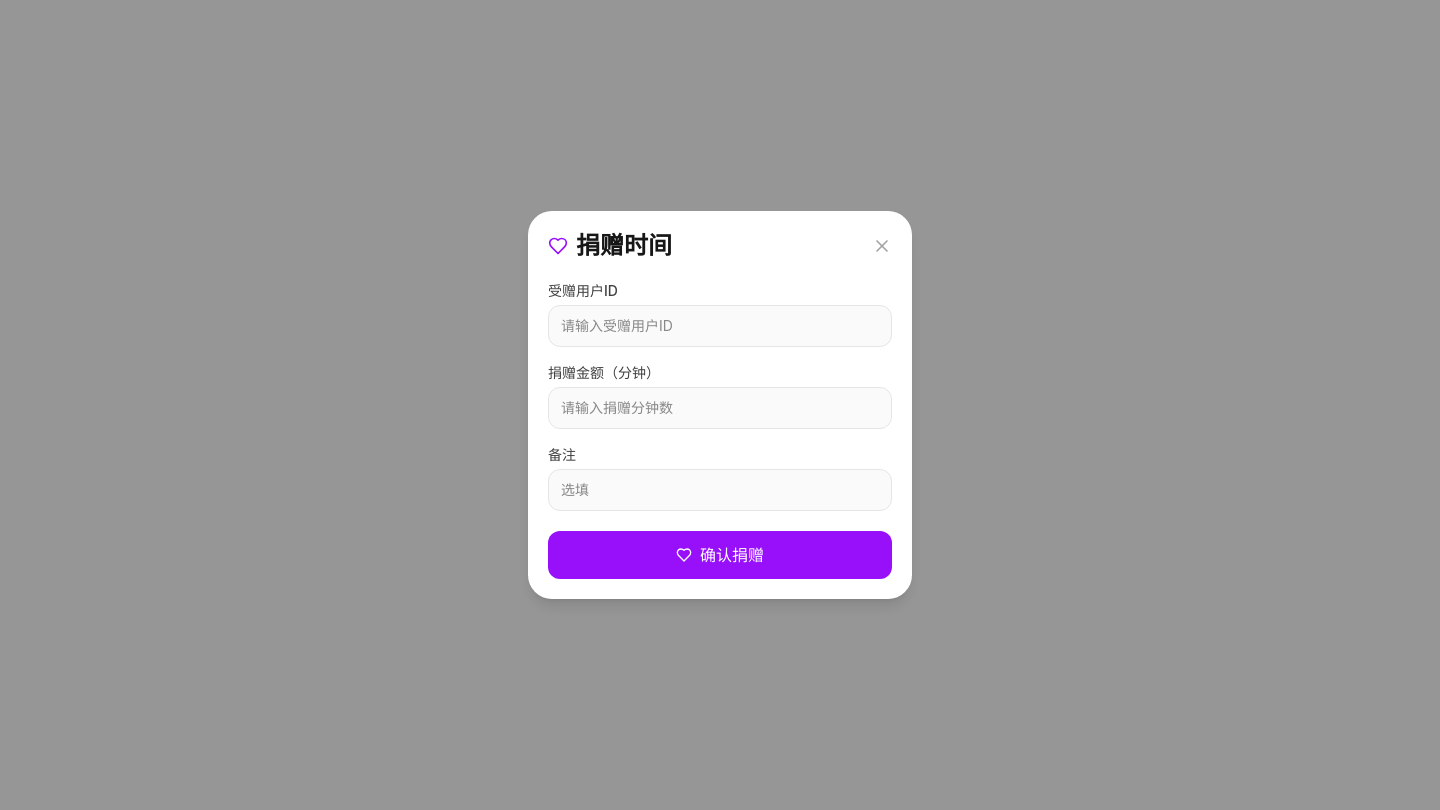
Test case: DonateModal 捐赠时间币弹窗 › 提交流程 › 提交失败为 ApiError 时显示 ApiError.message
Type "user-88" into the field with placeholder "请输入受赠用户ID" at coordinates (720, 326), box [548,305,892,347]
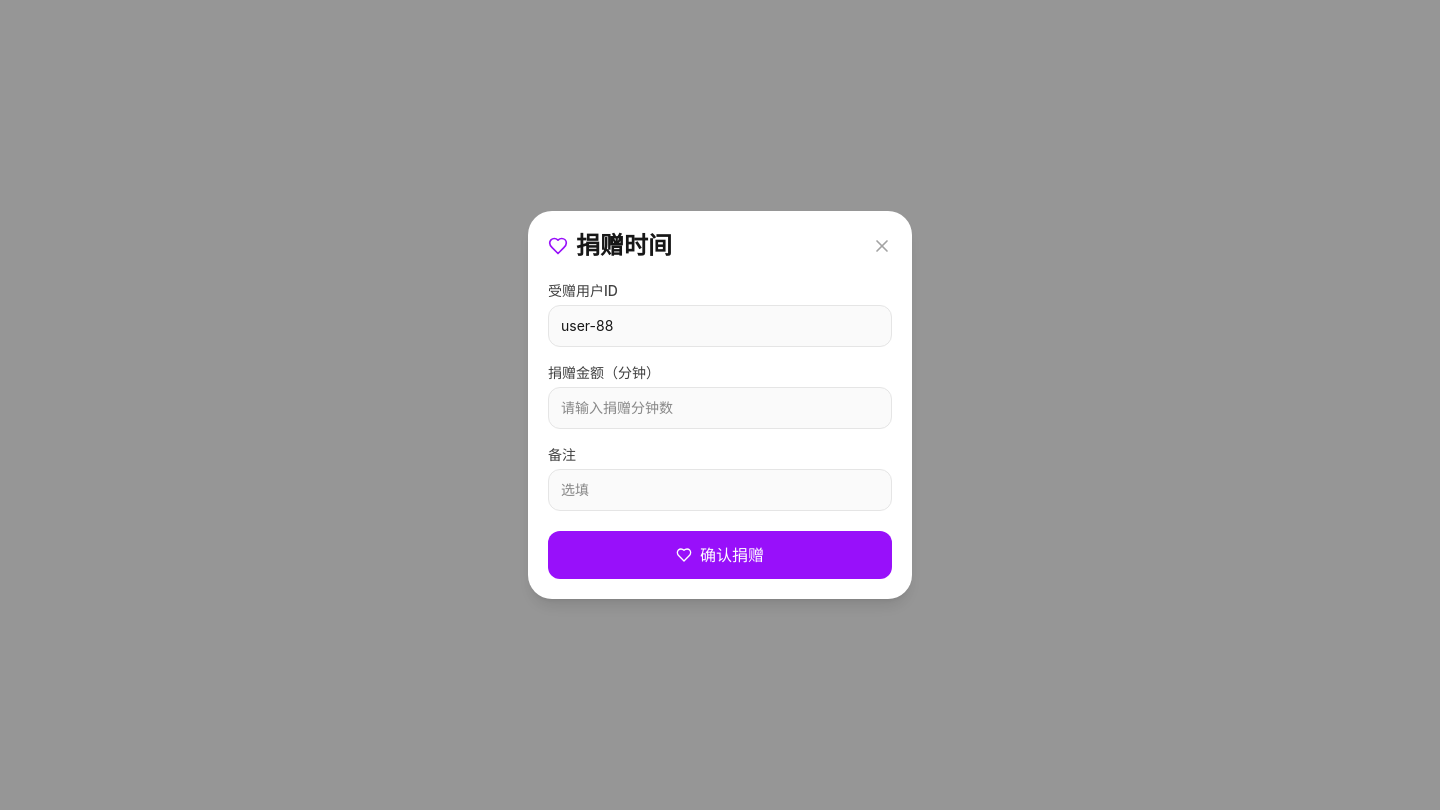
Type "20" into the number field with placeholder "请输入捐赠分钟数" at coordinates (720, 408), box [548,387,892,429]
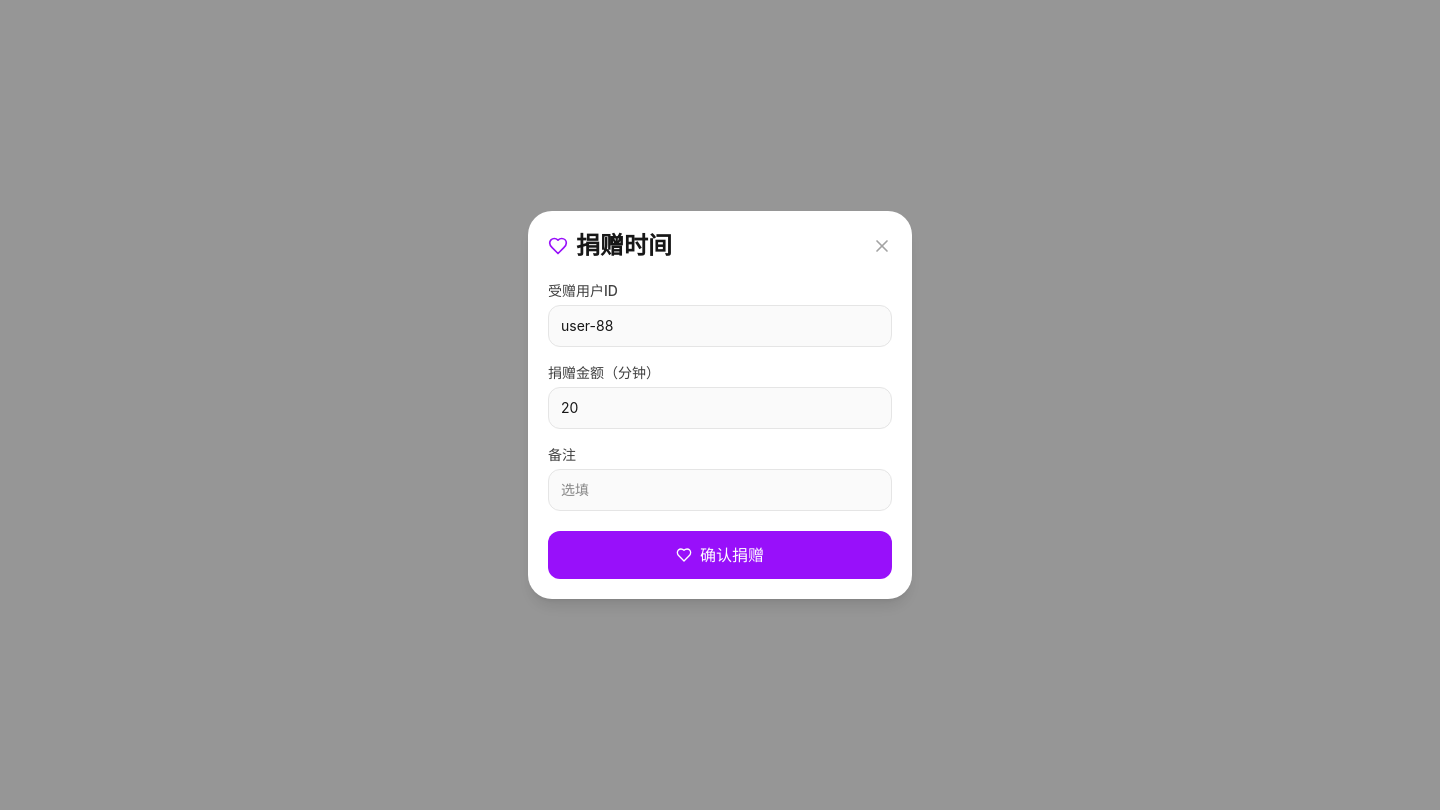
Type "公益捐赠" into the field with placeholder "选填" at coordinates (720, 490), box [548,469,892,511]
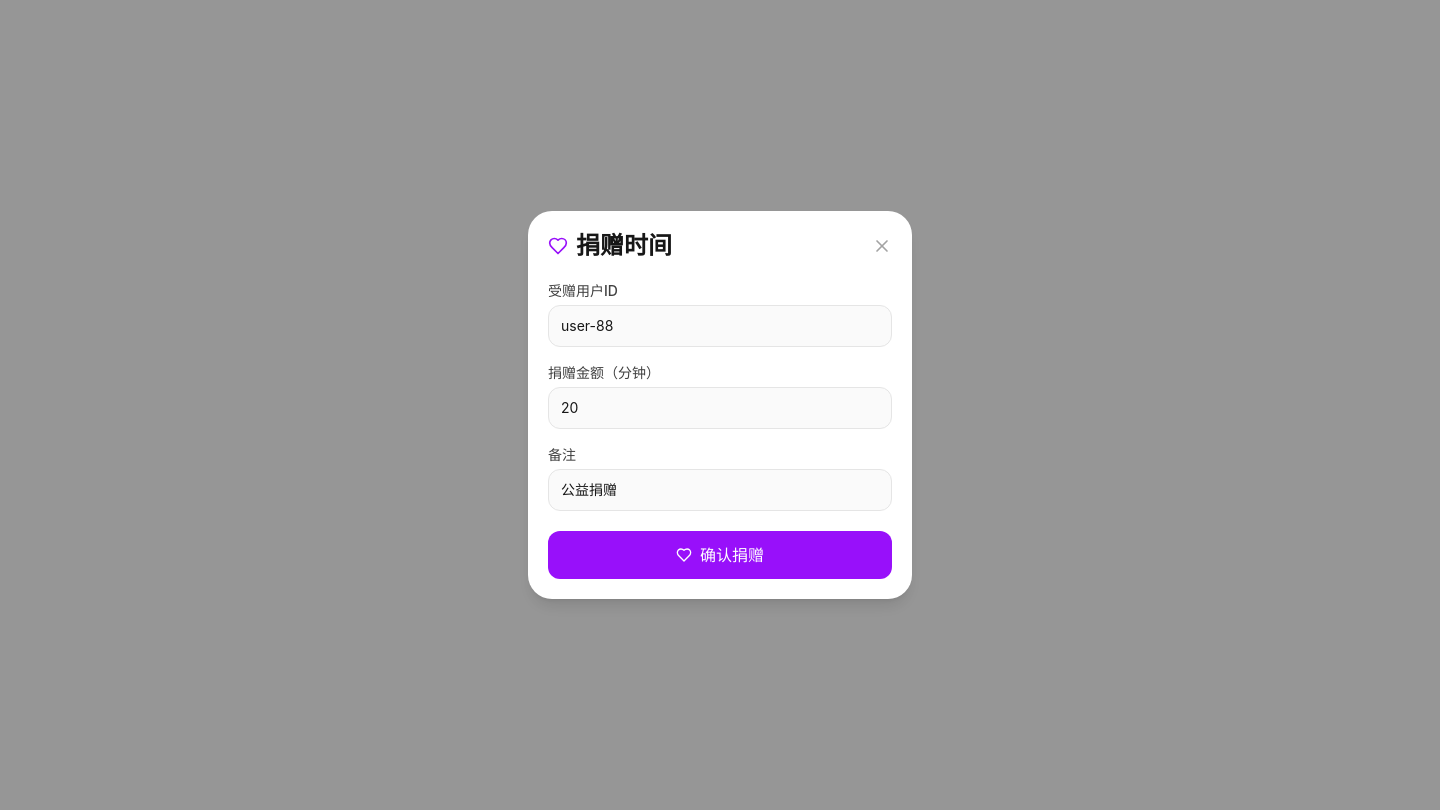
Click the button "确认捐赠" at coordinates (720, 555), box [548,531,892,579]
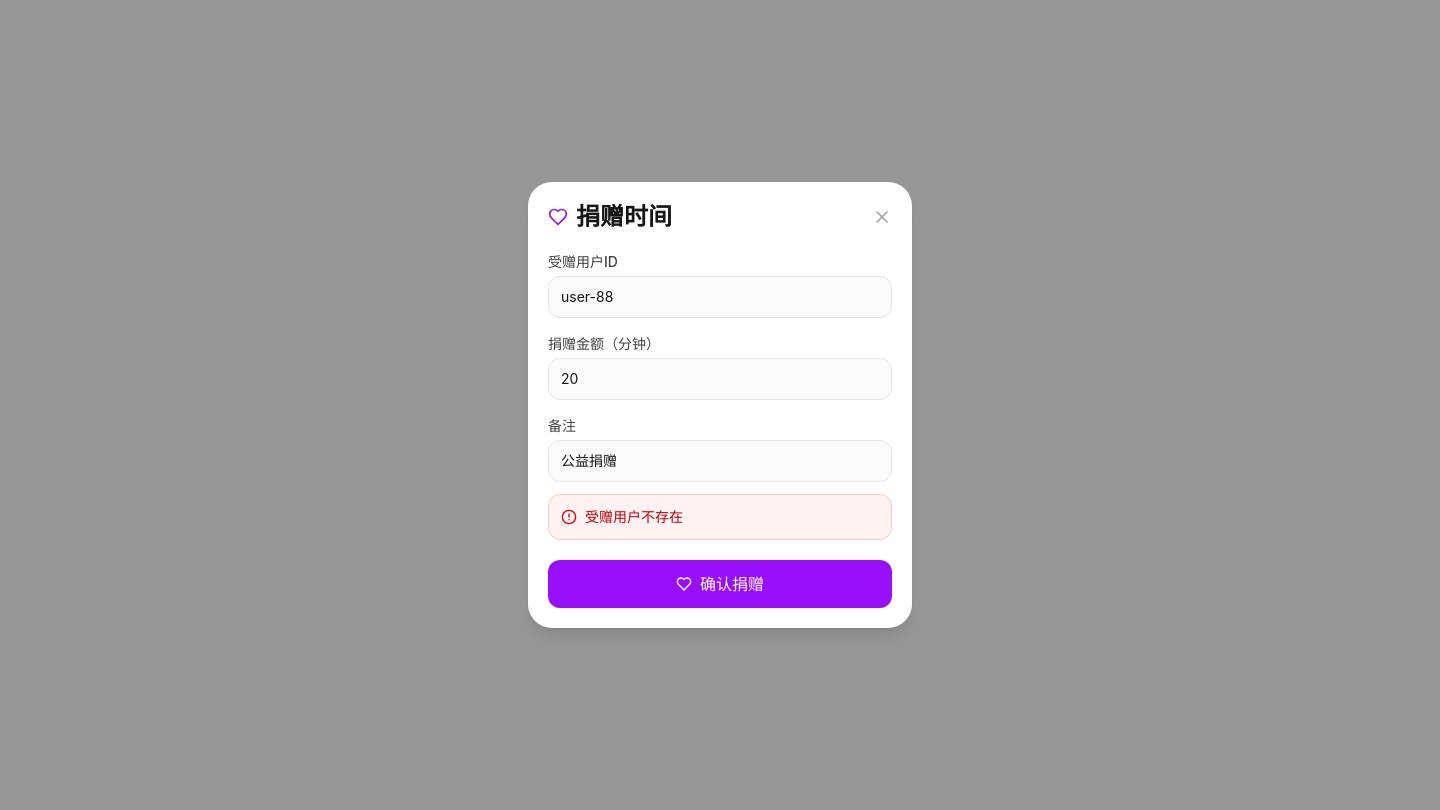
Expected: the text "受赠用户不存在" is shown, [585,507,683,527]
